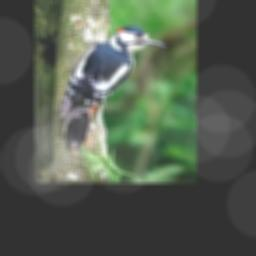Woodpecker: (59, 25, 166, 152)
